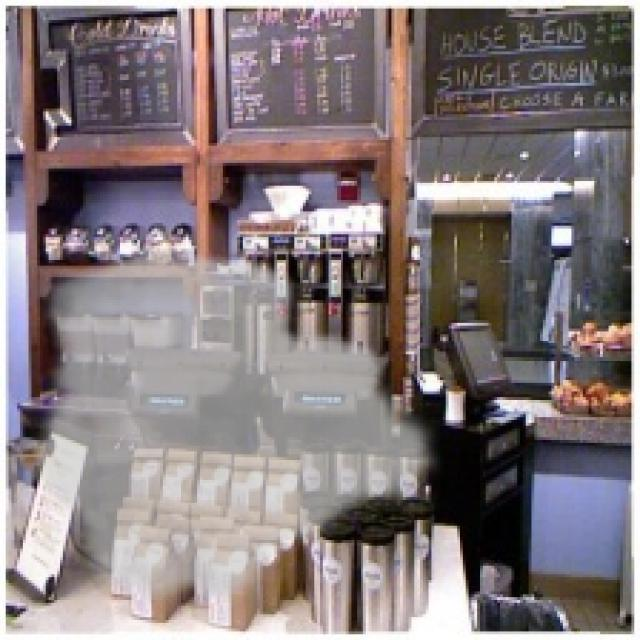Smoke: (28, 242, 446, 614)
